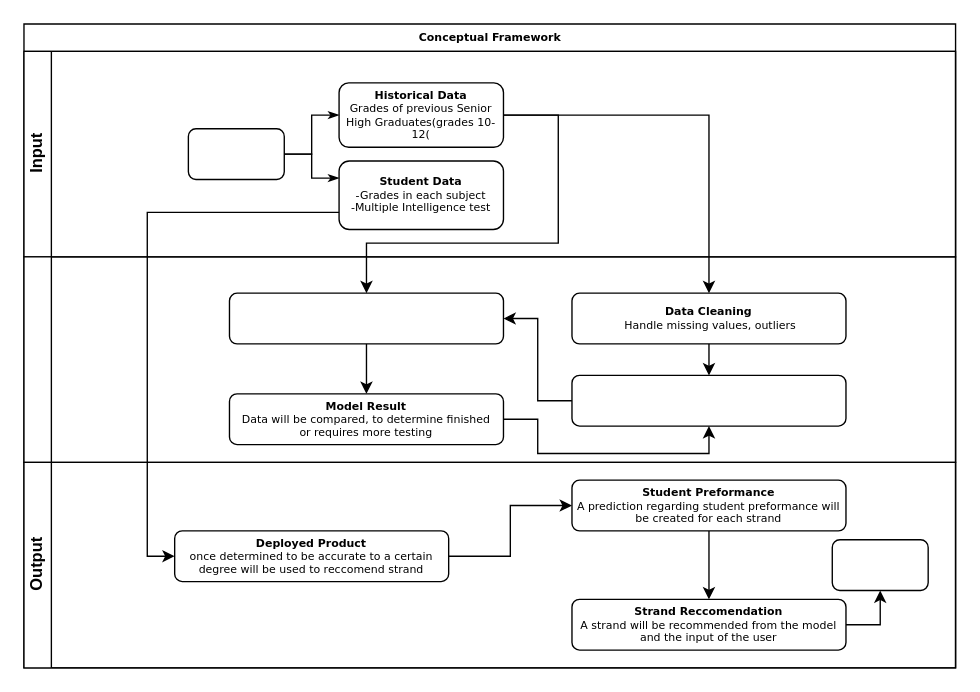
Image size: 980x692. Some labels were removed from this diagram. The box of each missing label's shape, as (x1, y1, x2, y2) in pixels:
end: (831, 538, 928, 590)
Model Testing Using cleaned data and historical data to test for accuracy: (228, 292, 503, 344)
Model Training Using cleaned data: (571, 374, 846, 426)
Process: (23, 256, 956, 462)
Start: (187, 127, 284, 179)
